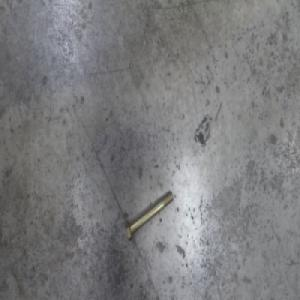Bolt: (124, 187, 174, 244)
